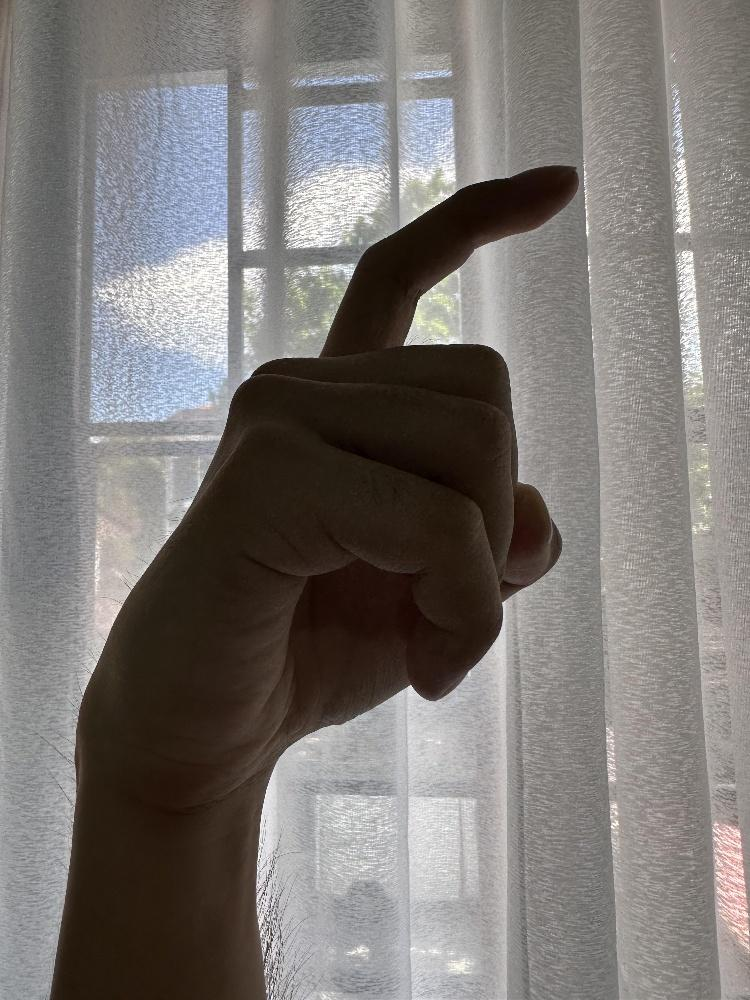x: (73, 160, 583, 811)
